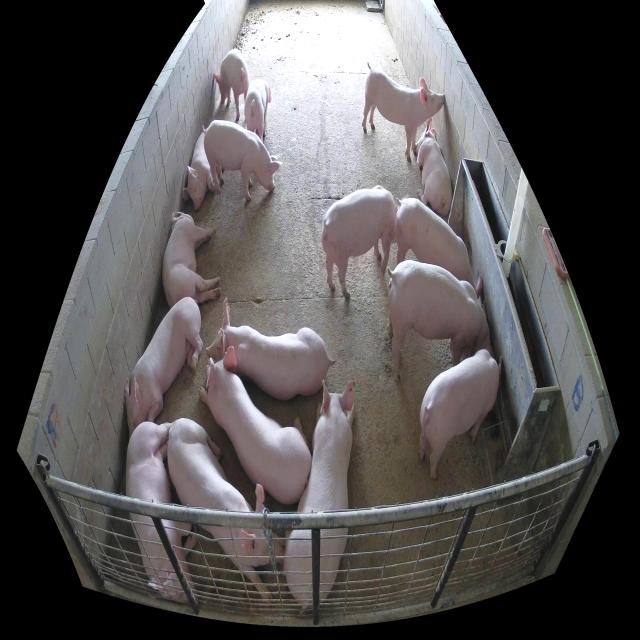pig: (168, 419, 285, 598), (198, 345, 312, 505), (282, 377, 356, 609), (126, 416, 204, 605), (206, 295, 329, 399), (387, 259, 490, 381), (419, 349, 502, 481), (125, 299, 203, 438), (320, 185, 399, 300), (396, 199, 482, 300), (362, 66, 445, 163), (203, 119, 282, 200), (162, 211, 221, 307), (415, 117, 452, 215), (213, 49, 249, 122), (182, 129, 213, 213), (244, 79, 272, 142)
